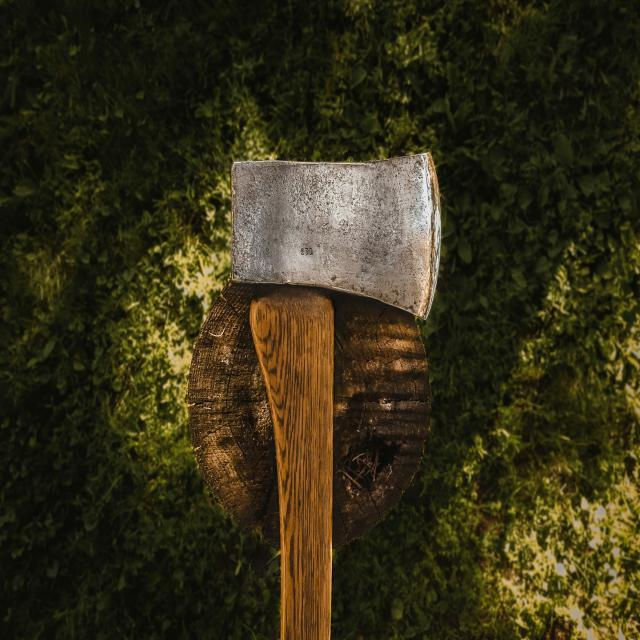Axe: (232, 154, 440, 639)
